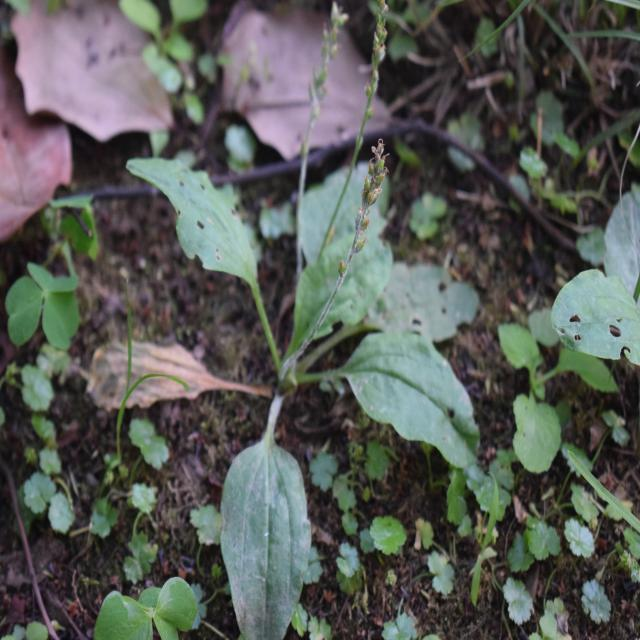plantain: (133, 84, 485, 596)
